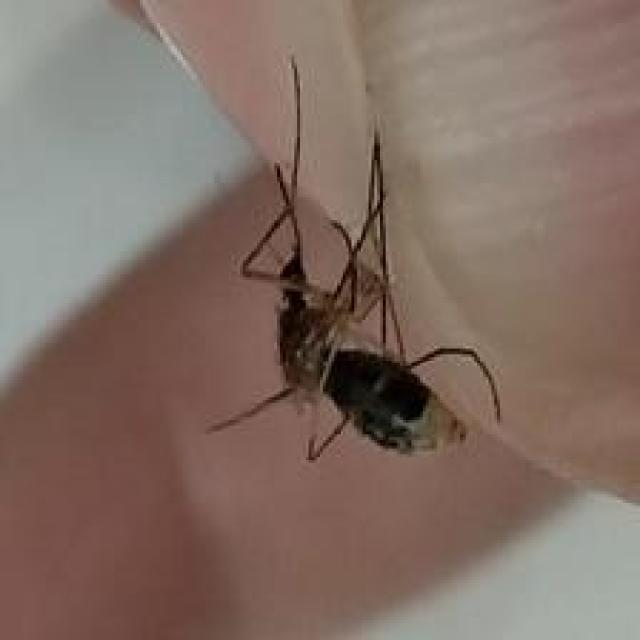Culex: (203, 53, 503, 464)
